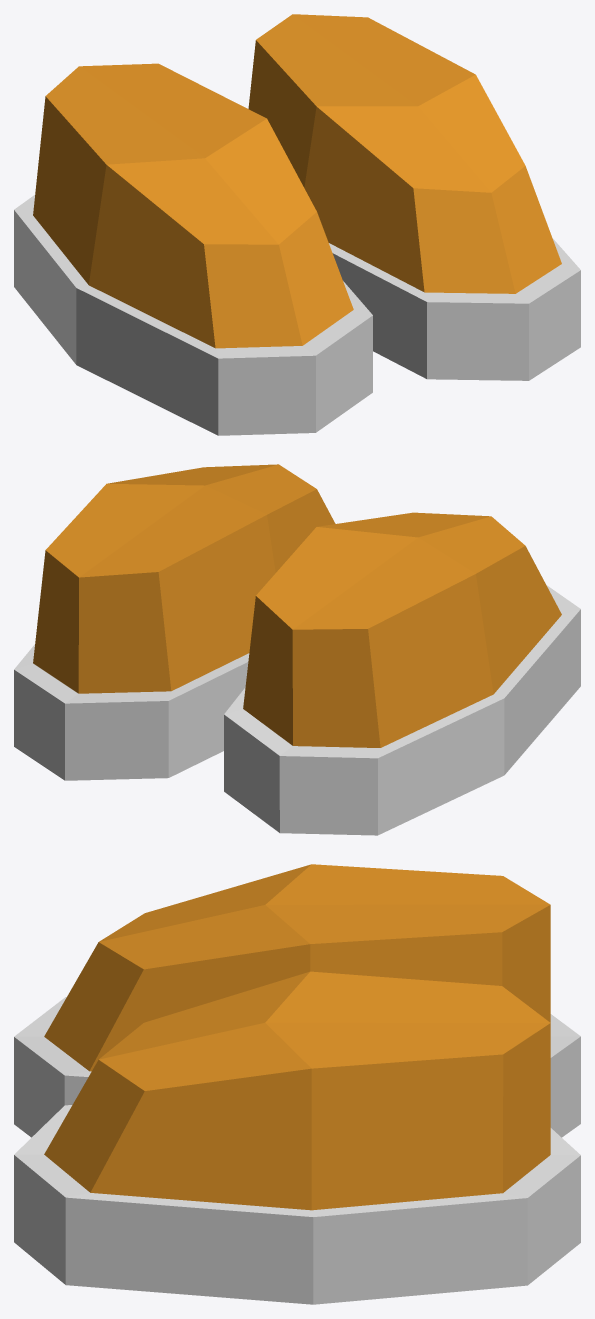
File: shoes.fbx
3 renders of one model, top to bottom at view 1: azimuth 30°, elevation 25°; view 2: azimuth 150°, elevation 25°; view 3: azimuth 270°, elevation 25°, orthographic. The views are drawn at different scales.
Visible parts, largest first — view 1: Cube.010; view 2: Cube.010; view 3: Cube.010.
Boxes of the visible parts, <box> form: Cube.010: <box>14,14,580,435</box>; Cube.010: <box>14,464,580,835</box>; Cube.010: <box>14,864,580,1304</box>.
Size of the model in its own units: 66.18 by 29.75 by 66.93.
